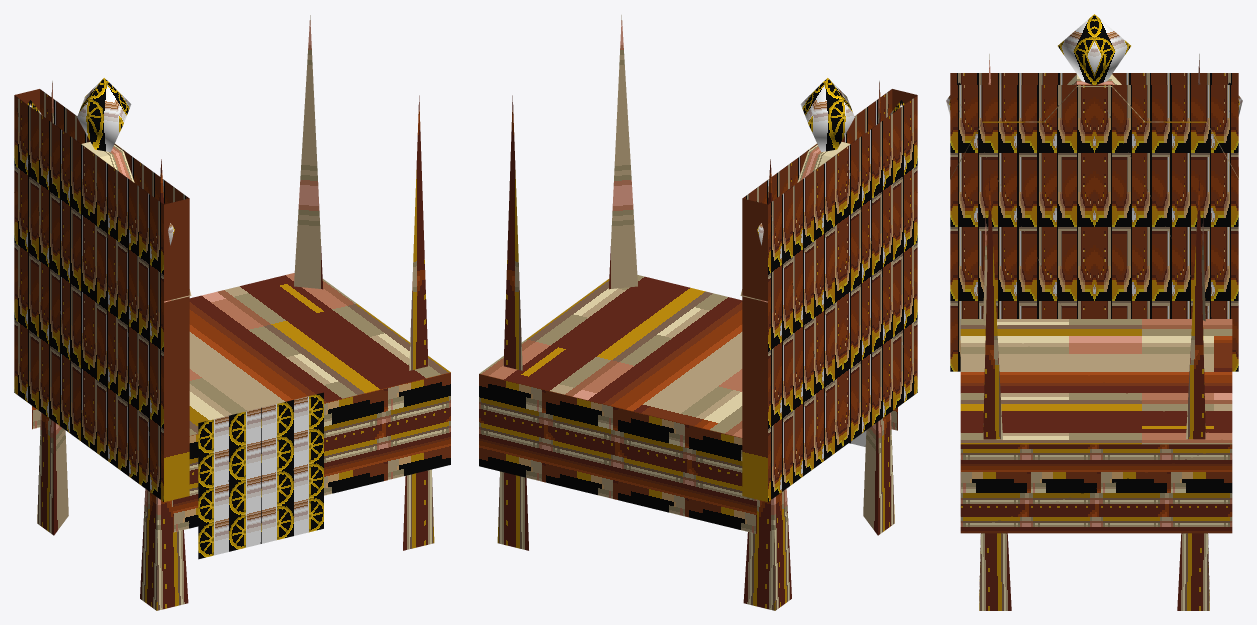
The model's file is 3576kg_17_isu.gltf.
3 renders of one model, left to right at view 1: azimuth 30°, elevation 25°; view 2: azimuth 150°, elevation 25°; view 3: azimuth 270°, elevation 25°, orthographic. The views are drawn at different scales.
Parts seen in each view (by area): view 1: 3576kg_17_isu; view 2: 3576kg_17_isu; view 3: 3576kg_17_isu.
Boxes of the visible parts, <box> form: 3576kg_17_isu: <box>14,15,450,610</box>; 3576kg_17_isu: <box>479,15,917,610</box>; 3576kg_17_isu: <box>946,14,1242,610</box>.
Size of the model in its own units: 0.7886 by 1.21 by 0.6914.
3 materials, 3 textured.
